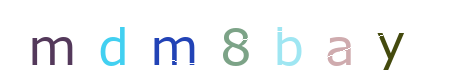8: (186, 0, 266, 80)
A: (205, 0, 285, 80)
B: (188, 0, 268, 80)
D: (134, 0, 214, 80)
M: (74, 0, 154, 80), (143, 0, 223, 80)
Y: (246, 0, 326, 80)
